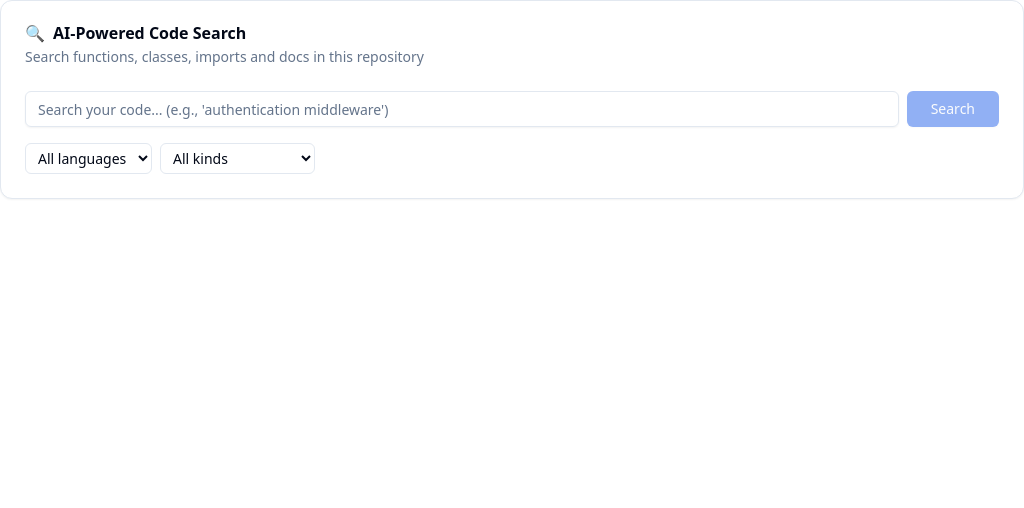
it: SearchInterface states › keeps results and pager when a page change fails
Type "foo" into the dropdown named "search query" at [462, 109], box x1=25 y1=91 x2=899 y2=127
Then press Enter
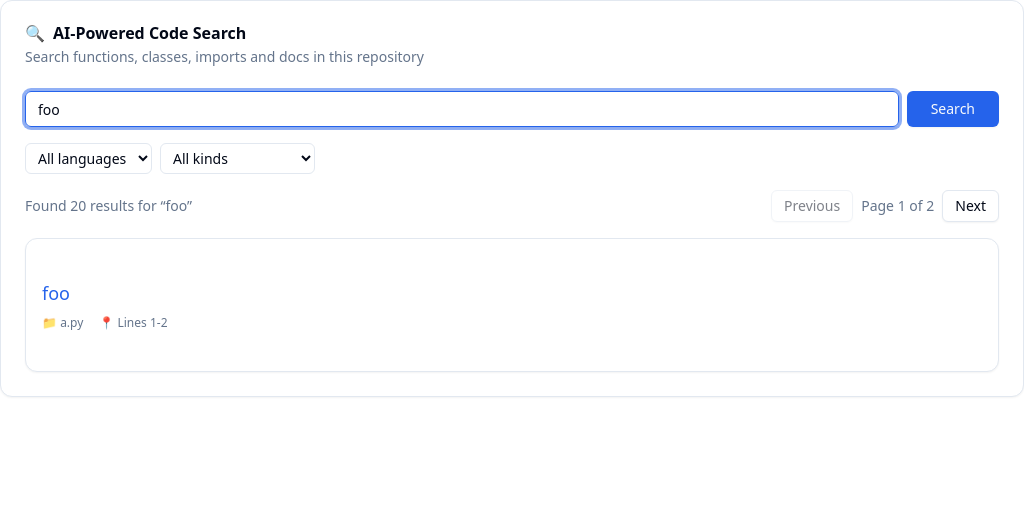
Click the button "Next" at [971, 206], box x1=942 y1=190 x2=999 y2=222
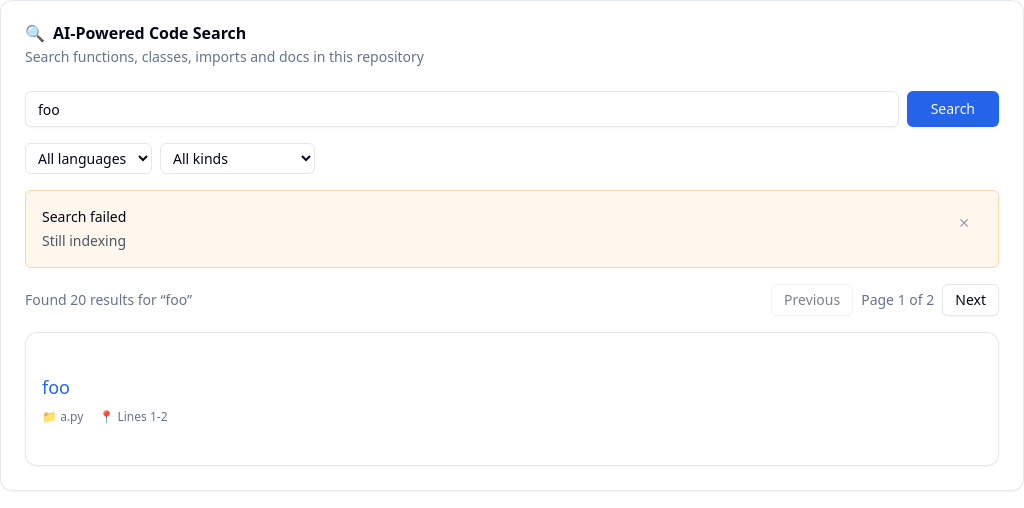
Check: the link "foo" is shown, box x1=42 y1=375 x2=70 y2=399
Check: the text "Page 1 of 2" is shown, box x1=861 y1=290 x2=934 y2=310
Check: the text "Still indexing" is shown, box x1=42 y1=231 x2=126 y2=251
